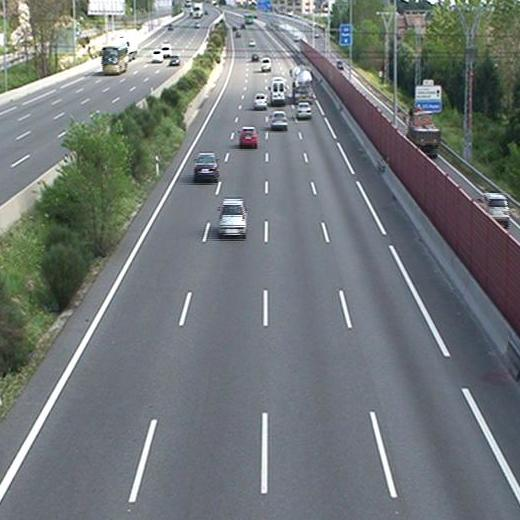car: (219, 198, 247, 237), (194, 153, 220, 184), (239, 127, 258, 147), (271, 111, 289, 129), (295, 101, 312, 119), (253, 93, 266, 108)
tank-truck: (292, 65, 313, 101)
van: (271, 77, 288, 106), (260, 58, 271, 72)
